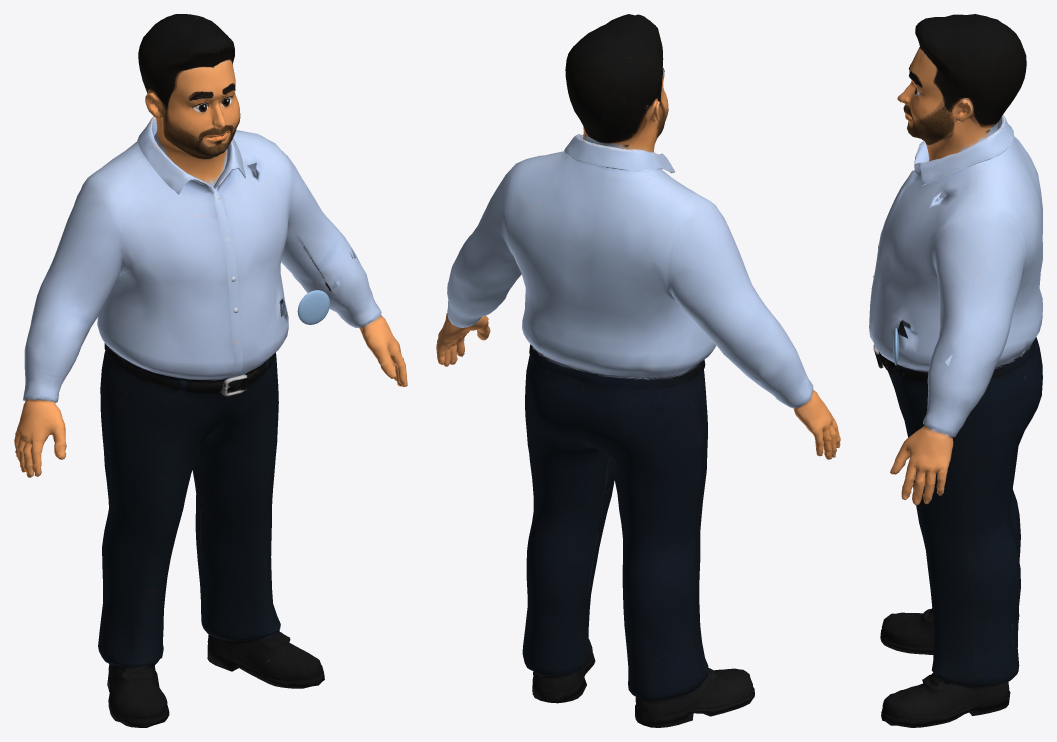
File: AbdullahEkinci_MeshyPro.obj
3 views of the same model, side by side, from view 1: azimuth 30°, elevation 25°; view 2: azimuth 150°, elevation 25°; view 3: azimuth 270°, elevation 25° (orthographic). The views are drawn at different scales.
Visible parts, largest first — view 1: AbdullahEkinci; view 2: AbdullahEkinci; view 3: AbdullahEkinci.
Part boxes in pixels (x1,y1,x2,y2): AbdullahEkinci: (14, 14, 407, 727); AbdullahEkinci: (436, 14, 840, 727); AbdullahEkinci: (869, 14, 1042, 727).
Bounding box in the file's own units: 1.1 × 1.8 × 0.4316.
